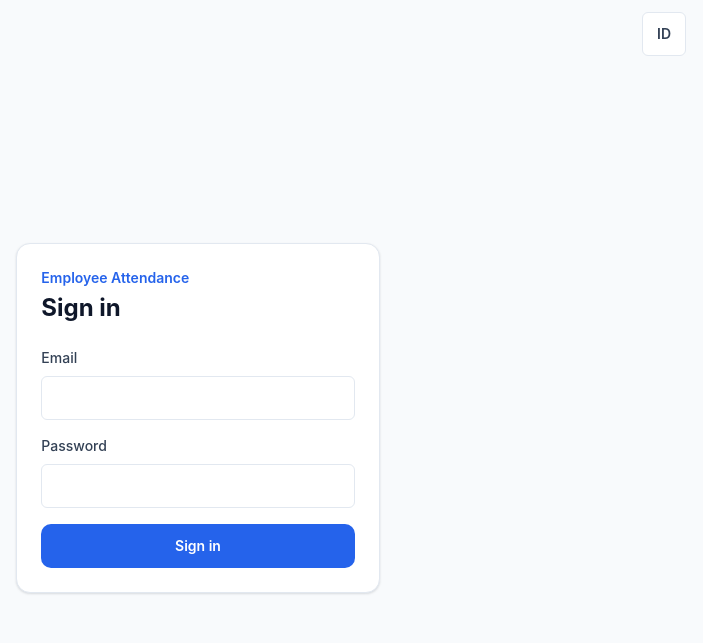
Test case: LoginPage › renders the English copy when English is the stored language
This screenshot has width=703, height=643.
In the field labelled "Email": (198, 398) [41,376,355,420], type "worker@corp.test"
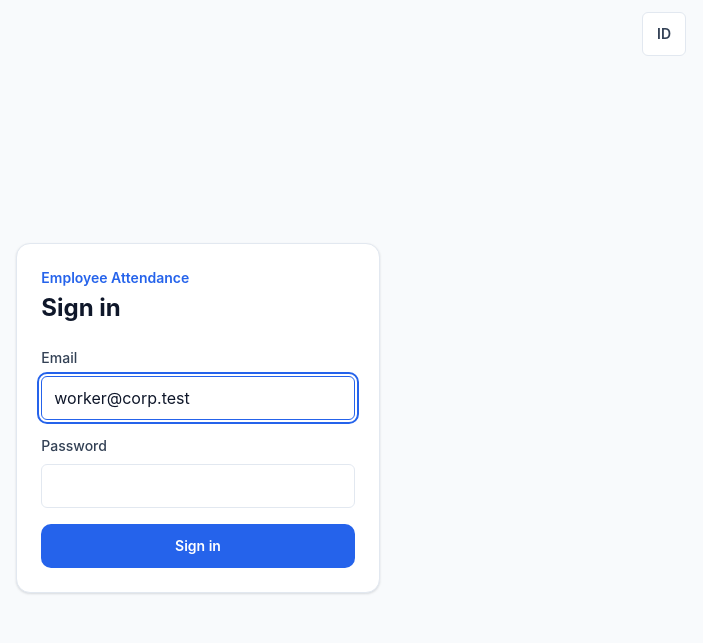
In the password field labelled "Password": (198, 486) [41,464,355,508], type "secret-1"
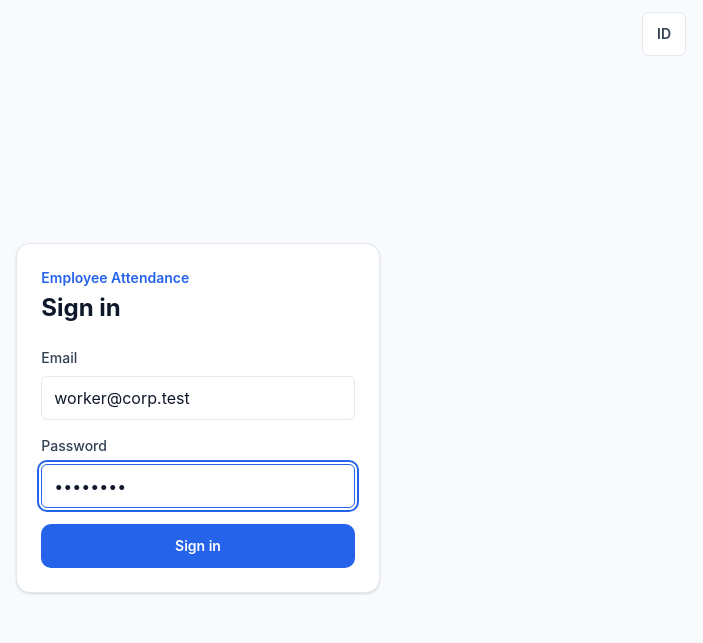
Click the button "Sign in": (198, 546) [41,524,355,568]
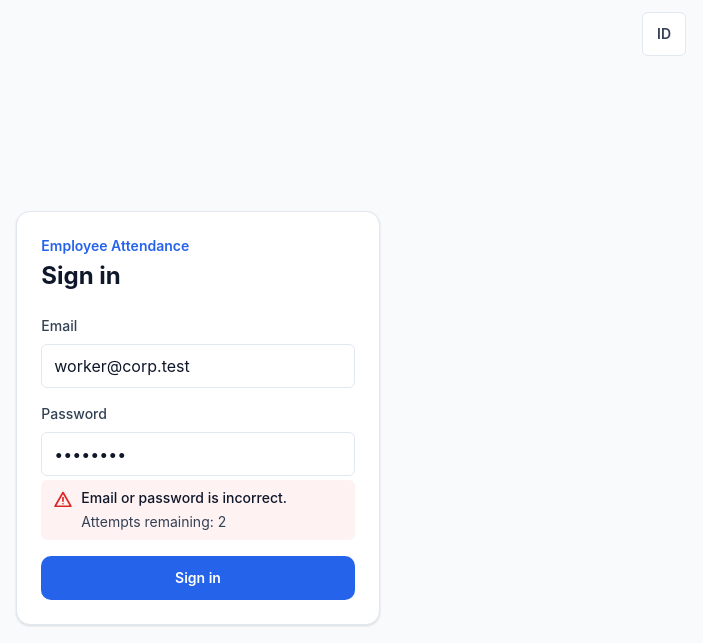
Now the message with test id "login-error" shows "Email or password is incorrect.", box [81,489,287,506]
Now the text with test id "login-attempts" reads "Attempts remaining: 2", box [81,513,226,530]
